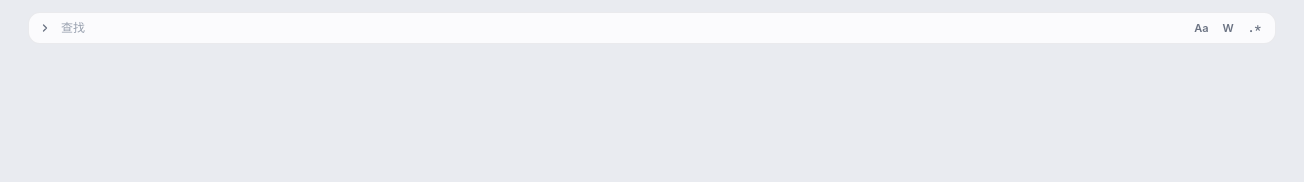
Test case: WorkspaceSearchPanel › 点文件分组 header 折叠/展开,命中行随之隐藏/恢复
This screenshot has width=1304, height=182.
Type "needle" into the field with test id "workspace-search-input" at point(609, 28), box [33, 21, 1184, 35]
Wait 260 ms
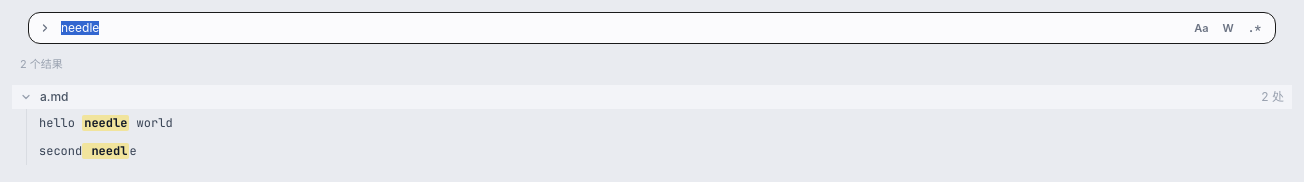
Check: the element with test id "workspace-search-hit-0-0" is shown, box [39, 114, 173, 130]
Check: the element with test id "workspace-search-hit-0-1" is shown, box [39, 142, 137, 158]
Check: the button with test id "workspace-search-group-0" is shown
Click the button with test id "workspace-search-group-0" at point(26, 96), box [12, 84, 1292, 108]
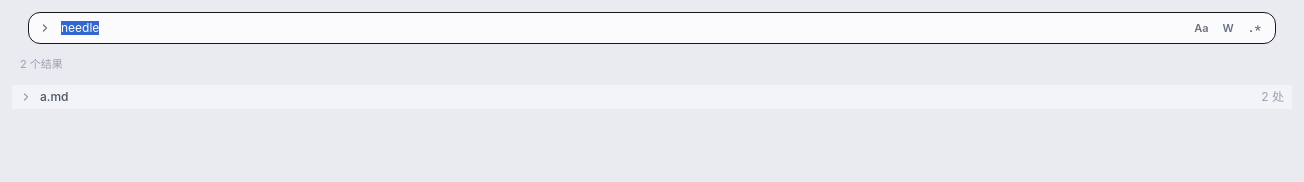
Check: the button with test id "workspace-search-group-0" is shown
Check: the button with test id "workspace-search-group-0" is collapsed
再点展开,hit 行回来
Click the button with test id "workspace-search-group-0" at point(26, 96), box [12, 84, 1292, 108]
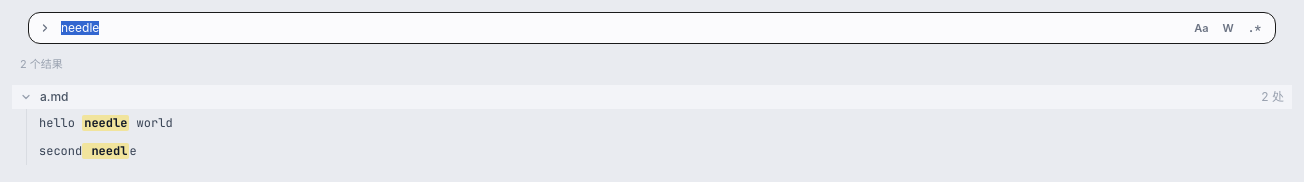
Check: the button with test id "workspace-search-group-0" is expanded, box [12, 84, 1292, 108]
Check: the element with test id "workspace-search-hit-0-0" is shown, box [39, 114, 173, 130]
Check: the element with test id "workspace-search-hit-0-1" is shown, box [39, 142, 137, 158]
